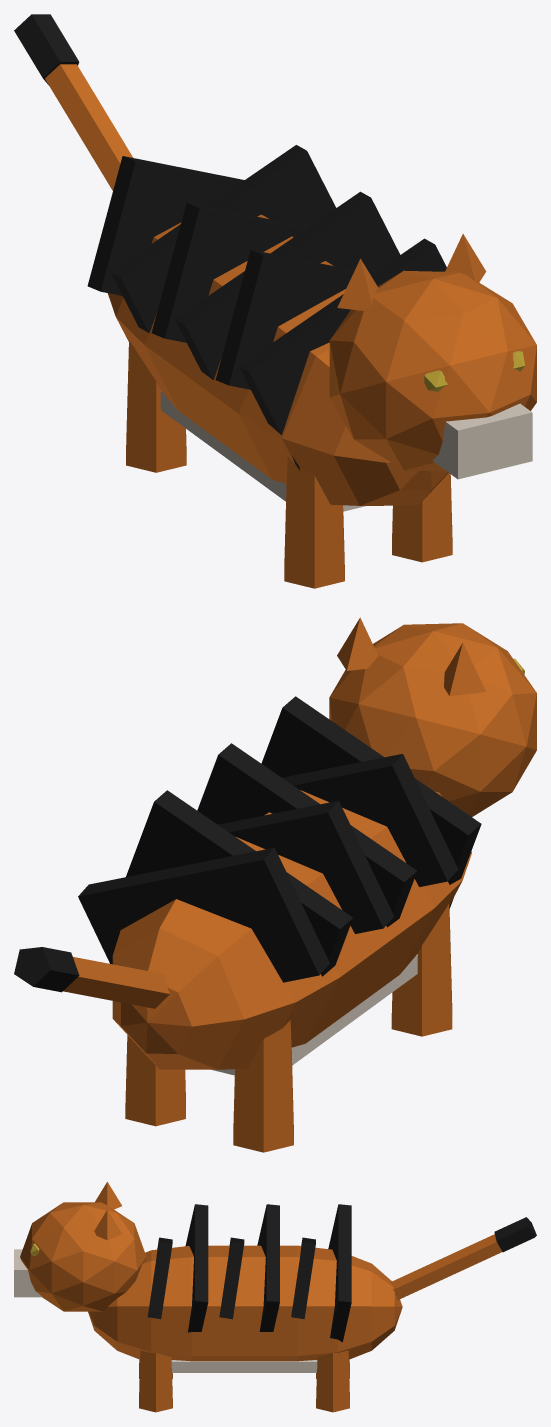
File: harimau.glb
3 views of the same model, one above another, from view 1: azimuth 30°, elevation 25°; view 2: azimuth 150°, elevation 25°; view 3: azimuth 270°, elevation 25° (orthographic). The views are drawn at different scales.
Visible parts, largest first — view 1: kbs_harimau, object 2; view 2: kbs_harimau, object 2; view 3: kbs_harimau, object 2.
Part boxes in pixels (left/top/right/bottom): kbs_harimau: left=14, top=14, right=452, bottom=588; object 2: left=329, top=234, right=536, bottom=479; kbs_harimau: left=14, top=696, right=481, bottom=1152; object 2: left=329, top=617, right=536, bottom=816; kbs_harimau: left=88, top=1204, right=536, bottom=1412; object 2: left=14, top=1182, right=146, bottom=1311.
Bounding box in the file's own units: 0.7011 × 1 × 2.44.
